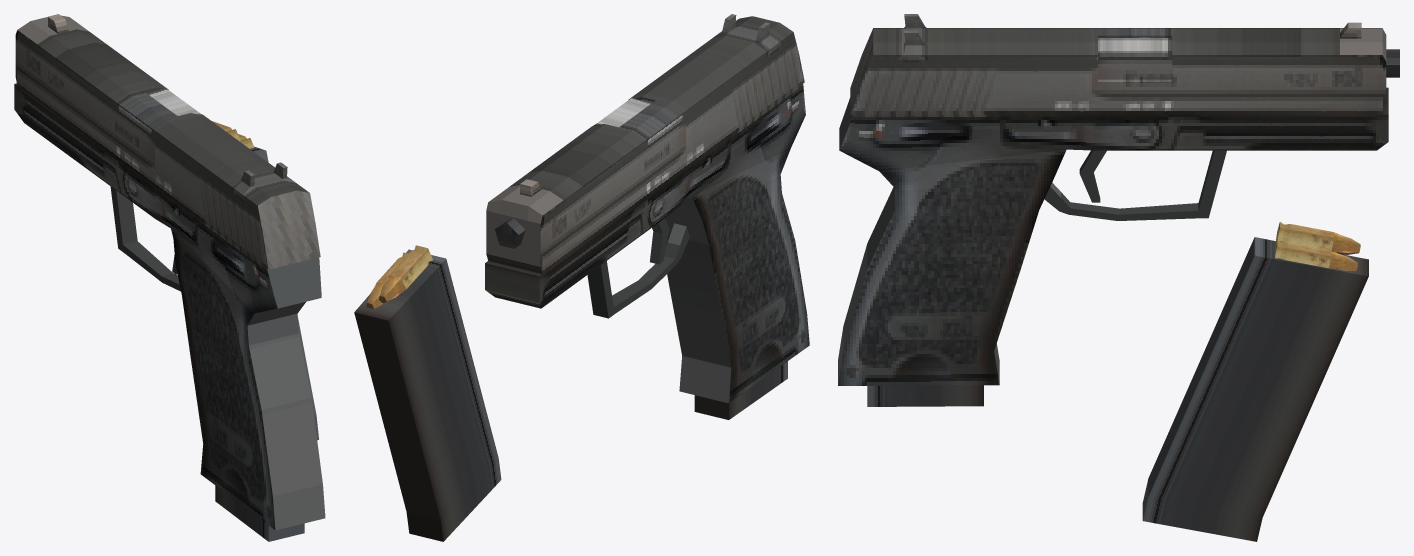
File: usp_psx.glb
3 renders of one model, left to right at view 1: azimuth 30°, elevation 25°; view 2: azimuth 150°, elevation 25°; view 3: azimuth 270°, elevation 25°, orthographic. The views are drawn at different scales.
Visible parts, largest first — view 1: gun_2, slide_0, mag_3, barrel_1, mag.001_5; view 2: gun_2, slide_0, mag.001_5, bullets.001_6, mag_3, barrel_1; view 3: gun_2, slide_0, mag.001_5, barrel_1, bullets.001_6, mag_3.
Boxes of the visible parts, <box> form: gun_2: <box>14,83,325,530</box>; slide_0: <box>15,14,320,269</box>; mag_3: <box>215,485,304,541</box>; barrel_1: <box>147,88,200,115</box>; mag.001_5: <box>250,146,318,440</box>; gun_2: <box>485,84,809,403</box>; slide_0: <box>486,14,804,273</box>; mag.001_5: <box>354,249,501,541</box>; bullets.001_6: <box>366,245,432,308</box>; mag_3: <box>694,361,787,419</box>; barrel_1: <box>495,98,650,248</box>; gun_2: <box>838,87,1388,385</box>; slide_0: <box>850,14,1386,114</box>; mag.001_5: <box>1142,237,1368,541</box>; barrel_1: <box>1098,40,1399,79</box>; bullets.001_6: <box>1275,222,1360,270</box>; mag_3: <box>867,385,983,406</box>.
Size of the model in its own units: 1.6 by 3.32 by 3.89.
2 materials, 2 textured.
